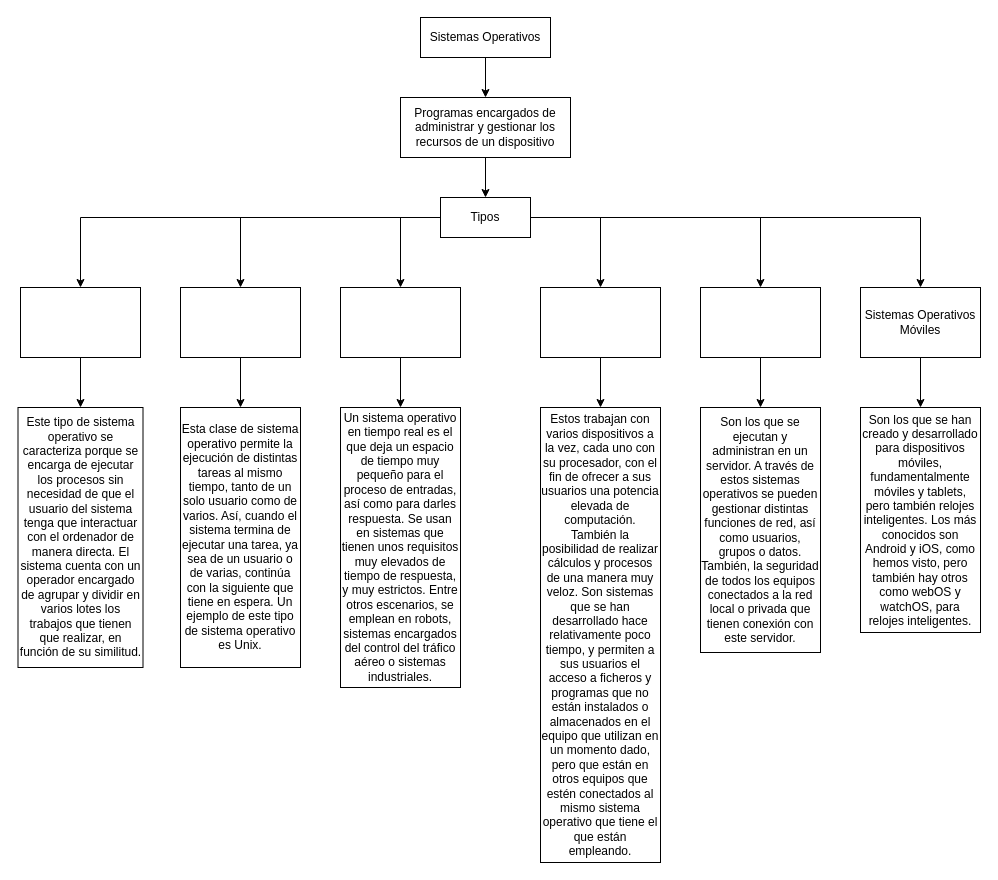
Some shapes in this 998 by 880 pixel diagram are drawn without their labels. Each missing label, with the box of its shape:
Sistema Operativo por Lotes: (20, 286, 140, 358)
Sistemas Distribuidos: (540, 286, 660, 358)
Sistemas Operativos de Red: (700, 286, 820, 358)
Sistemas Operativos en Tiempo Real: (340, 286, 460, 358)
Sistemas Operativos multitarea: (180, 286, 300, 358)
